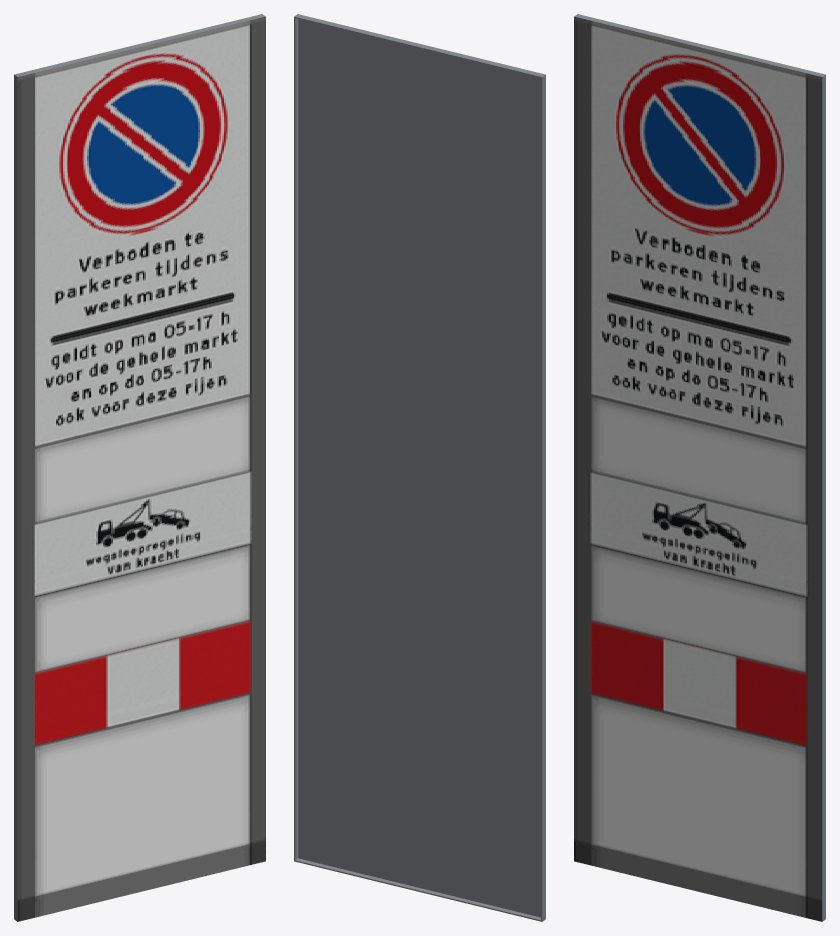
3 views of the same model, side by side, from view 1: azimuth 30°, elevation 25°; view 2: azimuth 150°, elevation 25°; view 3: azimuth 330°, elevation 25° (orthographic).
Visible parts, largest first — view 1: cat_1614e793a291f801; view 2: cat_1614e793a291f801; view 3: cat_1614e793a291f801.
Part boxes in pixels (<box>): cat_1614e793a291f801: <box>14,14,265,921</box>; cat_1614e793a291f801: <box>294,14,545,921</box>; cat_1614e793a291f801: <box>574,14,825,921</box>.
Size of the model in its own units: 0.6 by 0.015 by 1.95.
Materials: 2 (1 with a texture image).
